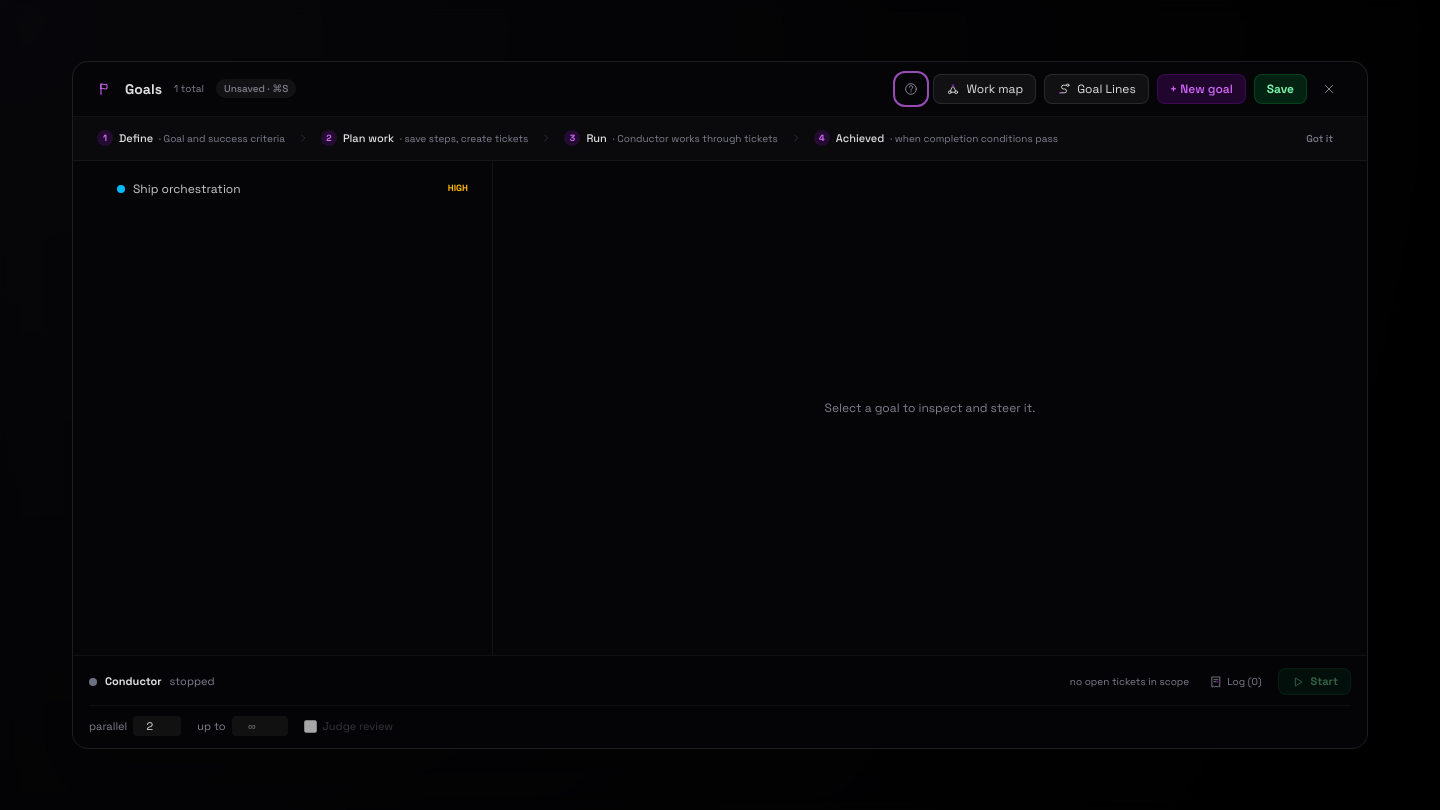
Test: GoalsModal › closing with unsaved changes › asks before discarding unsaved changes and discards nothing while it asks
This screenshot has width=1440, height=810.
Click the button with test id "goals-close-btn" at (1329, 89), box left=1315, top=75, right=1343, bottom=103
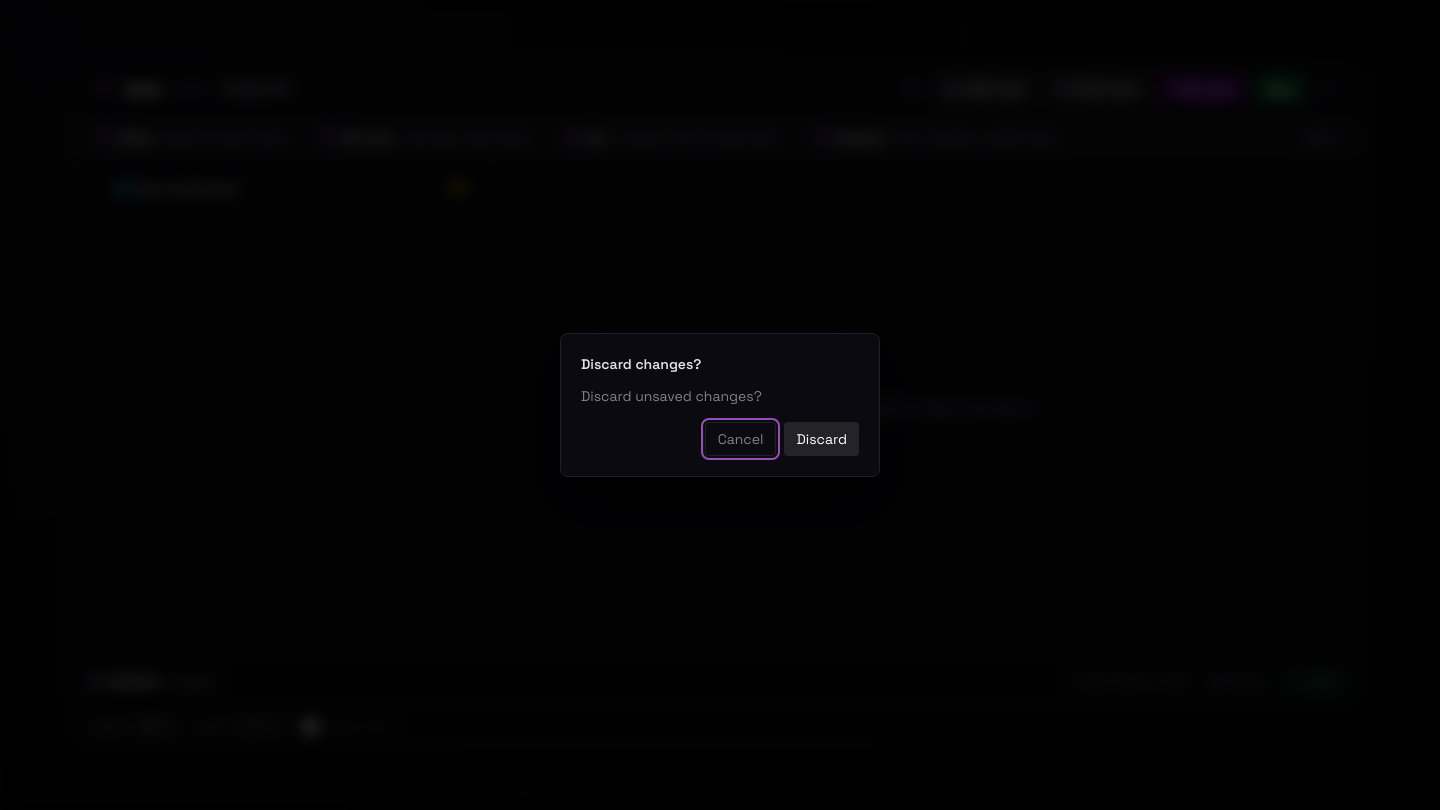
Check: the dialog "Discard changes?" shows "Discard unsaved changes?", box left=581, top=387, right=762, bottom=405
